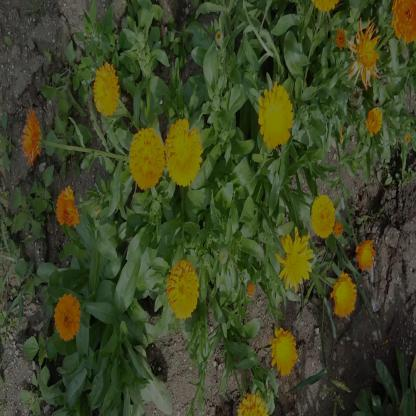marigold: (259, 85, 293, 148), (277, 230, 312, 290), (165, 119, 197, 183), (131, 126, 164, 187), (166, 260, 198, 318), (92, 63, 119, 115), (270, 328, 296, 374), (53, 294, 79, 340), (22, 110, 44, 162), (54, 187, 79, 231), (391, 0, 415, 43), (332, 272, 355, 315), (313, 194, 334, 239), (354, 234, 376, 275), (364, 106, 383, 135)
